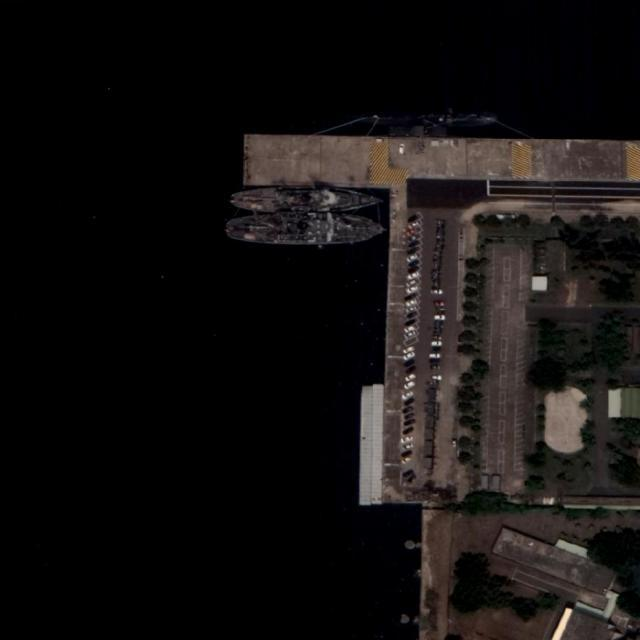Other Warship: (224, 213, 387, 245), (228, 185, 387, 212)
Submarine: (369, 112, 498, 125)
